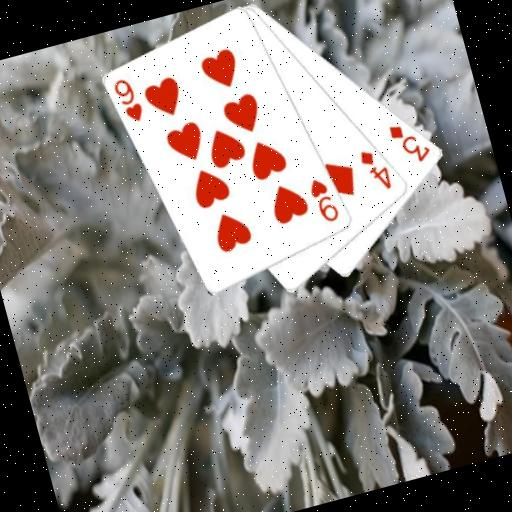3D: (384, 114, 435, 170)
4D: (355, 142, 395, 196)
9H: (304, 171, 343, 227), (108, 73, 147, 128)
